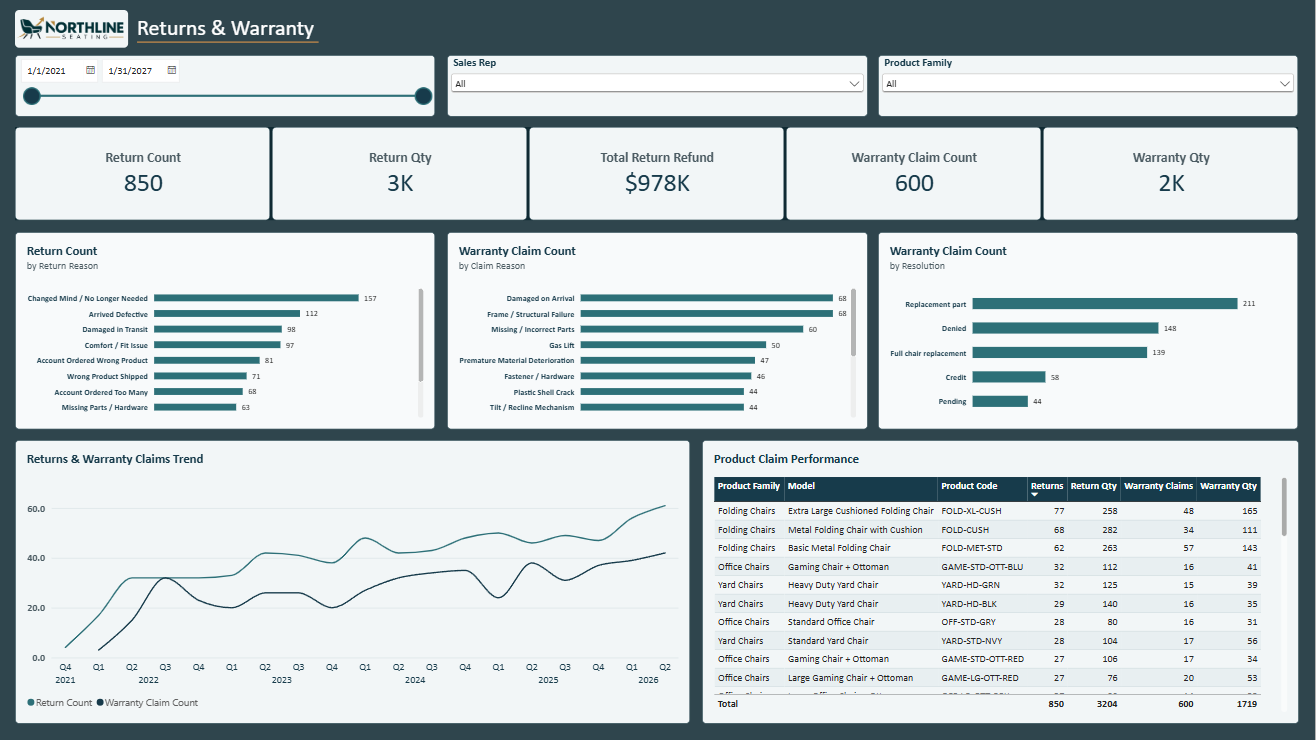

Layout of this report page (visuals, bound fields, positions):
{"tool":"powerbi","page":{"name":"Returns & Warranty","canvas":[1920,1080],"ordinal":11},"visuals":[{"type":"shape","box":[202.3,55,265,12],"z":0,"group":"g1"},{"type":"slicer","fields":{"Values":["Date.Date"]},"box":[24,80,613,90],"z":0},{"type":"textbox","box":[202.3,20,350,40],"z":1000,"group":"g1"},{"type":"slicer","fields":{"Values":["Sales Rep.Sales Rep"]},"box":[653,80,614,90],"z":1000},{"type":"image","box":[24,14,165,55],"z":2000,"group":"g1"},{"type":"slicer","fields":{"Values":["Product Reference.Product Family"]},"box":[1283,80,613,90],"z":2000},{"type":"cardVisual","fields":{"Data":["Measures_.Return Count","Measures_.Return Qty","Measures_.Total Return Refund","Measures_.Warranty Claim Count","Measures_.Warranty Qty"]},"box":[24,186,1872,136],"z":3000},{"type":"clusteredBarChart","fields":{"Category":["Returns.Return Reason"],"Y":["Measures_.Return Count"]},"box":[24,338,613,288],"z":4000},{"type":"barChart","fields":{"Category":["Warranty.Claim Reason"],"Y":["Measures_.Warranty Claim Count"]},"box":[653,338.5,614,288],"z":5000},{"type":"lineChart","title":"Returns & Warranty Claims Trend","fields":{"Category":["Date.Year Hierarchy.Year","Date.Year Hierarchy.Quarter Label"],"Y":["Measures_.Return Count","Measures_.Warranty Claim Count"]},"box":[23.5,642.1,985,414.5],"z":6000},{"type":"tableEx","title":"Product Claim Performance","fields":{"Values":["Product Reference.Product Family","Product Reference.Model","Product Reference.Product Code","Measures_.Return Count","Measures_.Return Qty","Measures_.Warranty Claim Count","Measures_.Warranty Qty"]},"box":[1025.2,642.1,871.3,414.5],"z":7000},{"type":"group","id":"g1","title":"Group 1","box":[24,14,528.3,55],"z":8000},{"type":"barChart","fields":{"Category":["Warranty.Resolution"],"Y":["Measures_.Warranty Claim Count"]},"box":[1283,338,613,288],"z":8001}]}

Visuals, with their boxes in screenshot pixels (x1, y1, x2, y2), scaled from the page's 1920x1080 canvas onto the 1316x740 screenshot:
shape: <box>139,38,320,46</box>
slicer - Date.Date: <box>16,55,437,116</box>
textbox: <box>139,14,379,41</box>
slicer - Sales Rep.Sales Rep: <box>448,55,868,116</box>
image: <box>16,10,130,47</box>
slicer - Product Reference.Product Family: <box>879,55,1300,116</box>
cardVisual - Measures_.Return Count x Measures_.Return Qty: <box>16,127,1300,221</box>
clusteredBarChart - Returns.Return Reason x Measures_.Return Count: <box>16,232,437,429</box>
barChart - Warranty.Claim Reason x Measures_.Warranty Claim Count: <box>448,232,868,429</box>
"Returns & Warranty Claims Trend" lineChart: <box>16,440,691,724</box>
"Product Claim Performance" tableEx: <box>703,440,1300,724</box>
"Group 1" group: <box>16,10,379,47</box>
barChart - Warranty.Resolution x Measures_.Warranty Claim Count: <box>879,232,1300,429</box>
